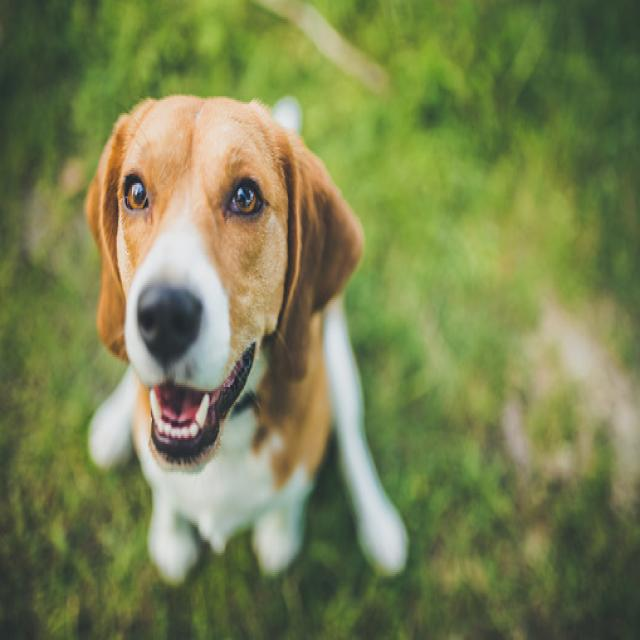beagle: (70, 71, 372, 489)
